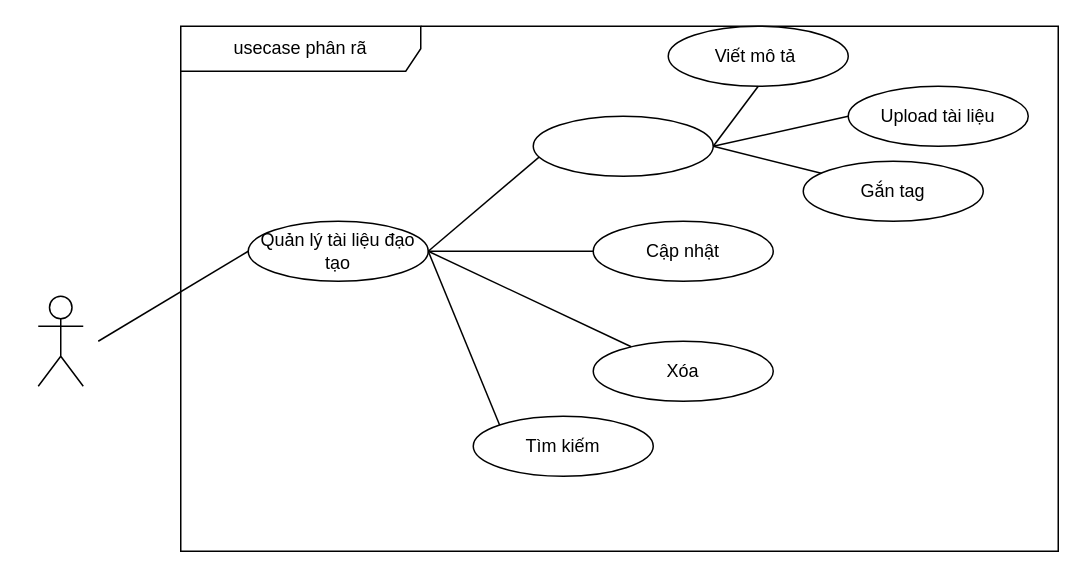
This 1085x578 diagram has some shape labels left out. Each missing label, with the centre of its shape:
"Nhân sự" goes at (60,340).
"Tạo tài liệu" goes at (622,145).
